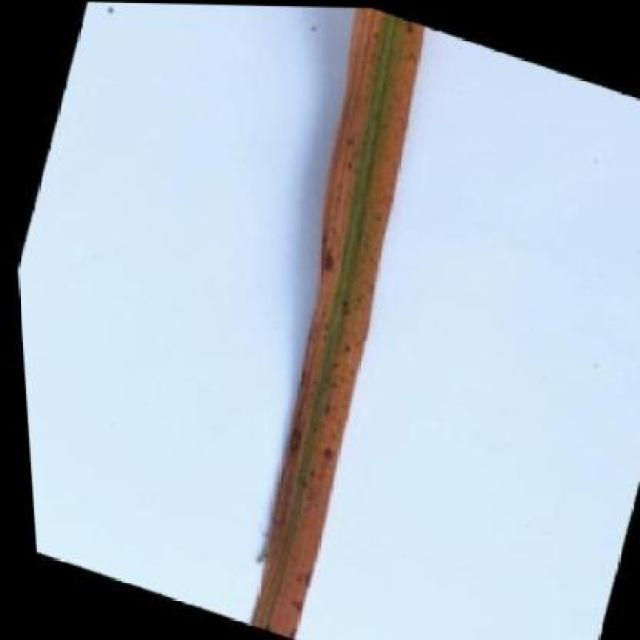Rice False Smut: (153, 3, 492, 640)
